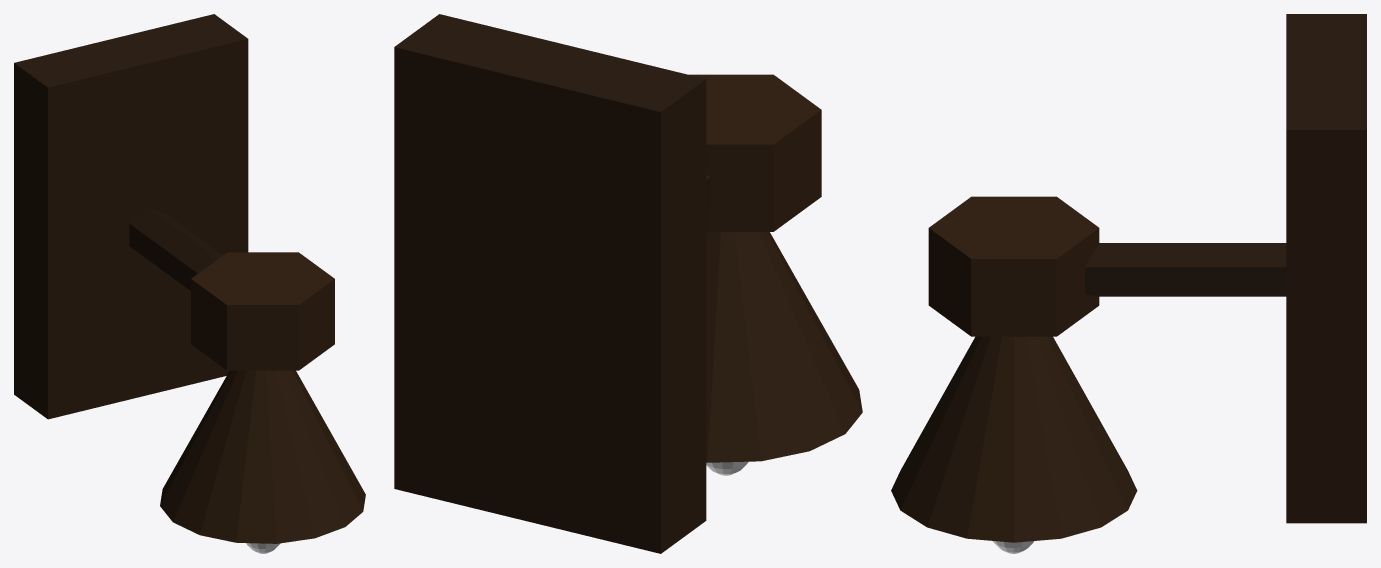
Rendered from Wall Lamp.fbx.
3 renders of one model, left to right at view 1: azimuth 30°, elevation 25°; view 2: azimuth 150°, elevation 25°; view 3: azimuth 270°, elevation 25°, orthographic. The views are drawn at different scales.
Parts seen in each view (by area): view 1: Sphere; view 2: Sphere; view 3: Sphere.
Part boxes in pixels (x1,y1,x2,y2): Sphere: [14, 14, 365, 553]; Sphere: [394, 14, 862, 553]; Sphere: [891, 14, 1366, 553].
Bounding box in the file's own units: 126 × 244 × 219.
